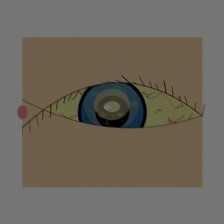corneal_ulcer: (82, 81, 141, 127)
